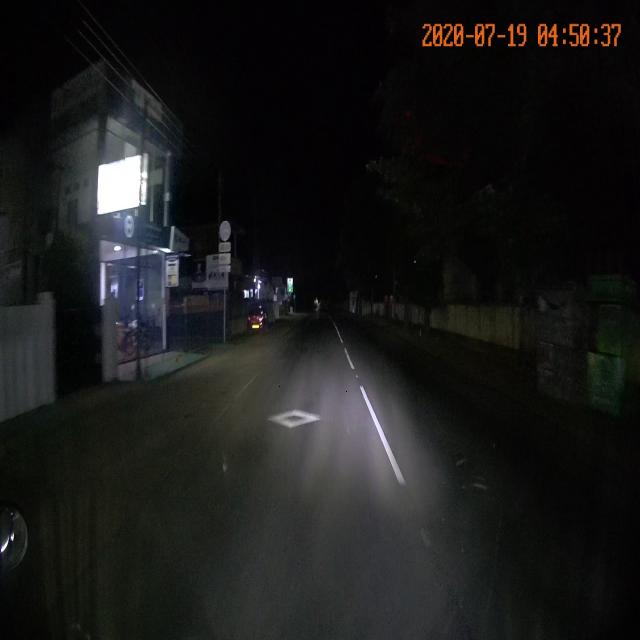diamond: (243, 385, 389, 446)
